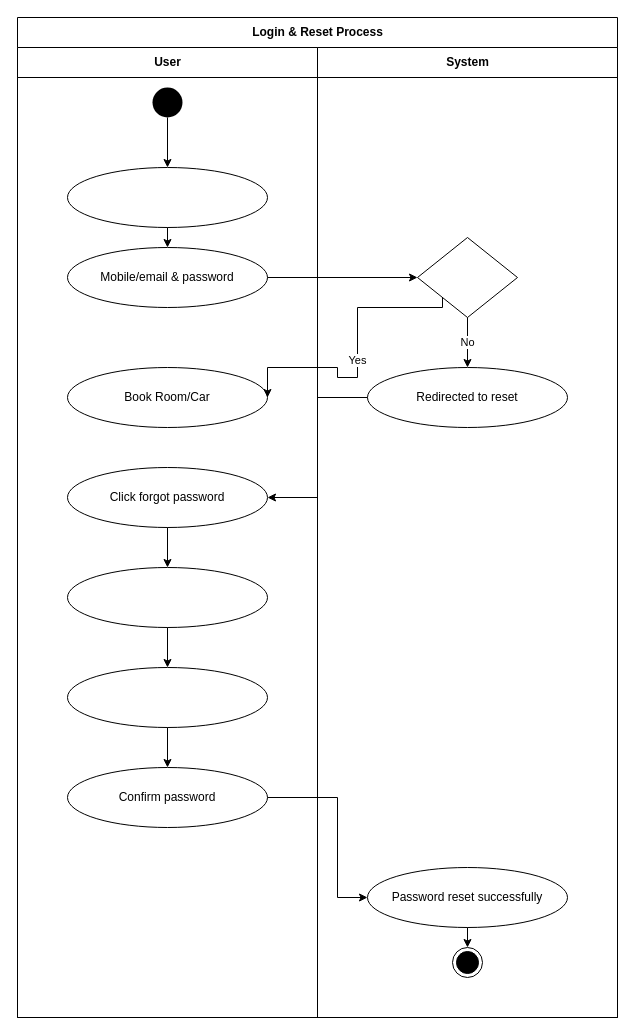
Some shapes in this 635 by 1035 pixel diagram are drawn without their labels. Each missing label, with the centre of its shape:
"Clicks login" belongs at pixel 167 197.
"Enter new password" belongs at pixel 167 697.
"Login Successful?" belongs at pixel 467 277.
"Provides email" belongs at pixel 167 597.
